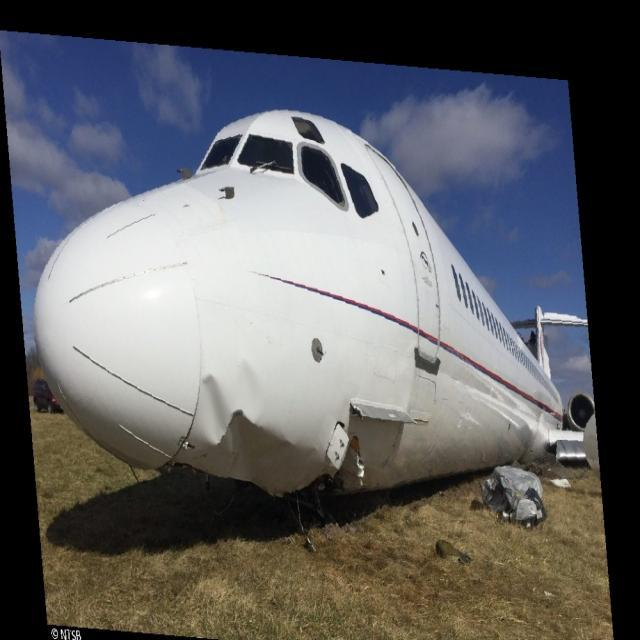dent: (199, 370, 234, 447), (240, 361, 261, 422)
